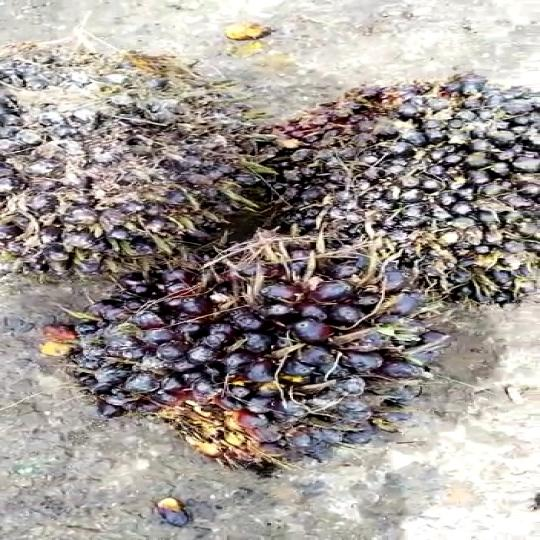mentah: (74, 231, 437, 488), (259, 61, 540, 299), (1, 40, 285, 272)
